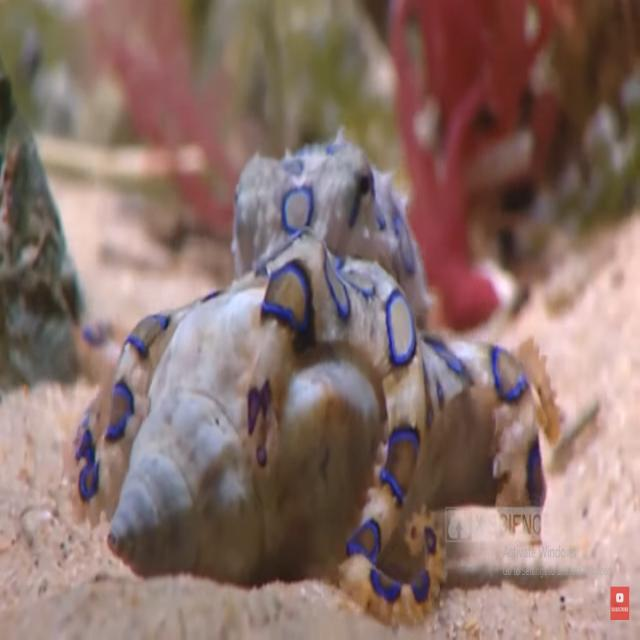blue_ringed_octopus: (70, 124, 563, 629)
